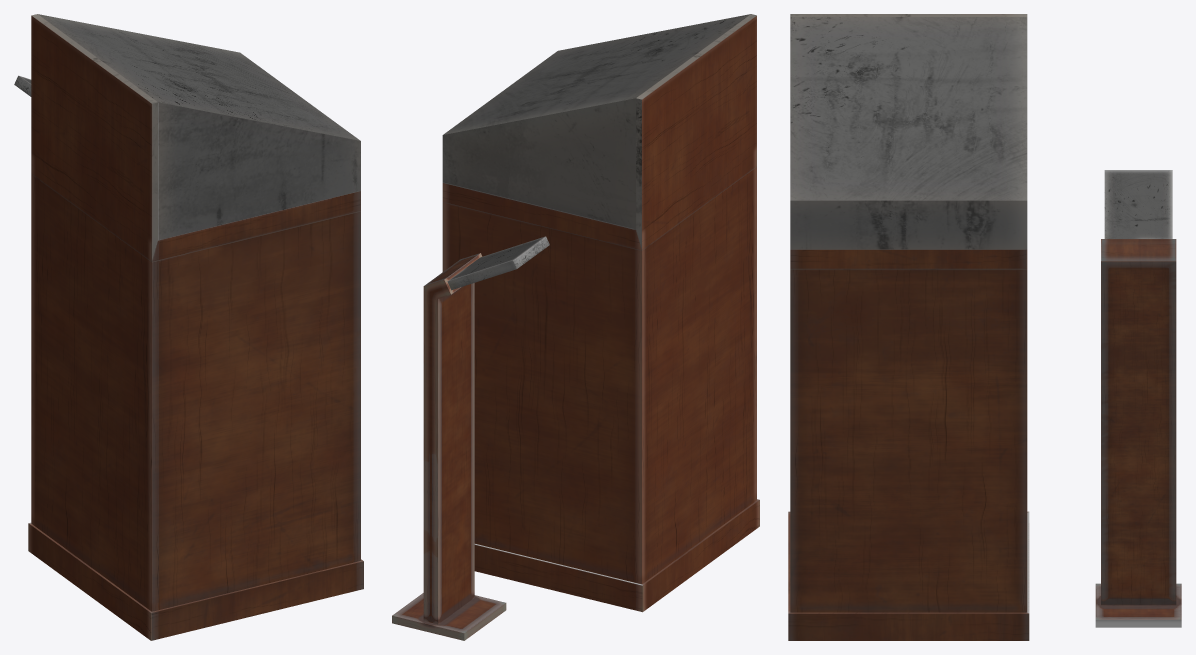
Rendered from Display Vertical.fbx.
3 renders of one model, left to right at view 1: azimuth 30°, elevation 25°; view 2: azimuth 150°, elevation 25°; view 3: azimuth 270°, elevation 25°, orthographic. The views are drawn at different scales.
Parts seen in each view (by area): view 1: display kotak; view 2: display kotak, display tesc; view 3: display kotak, display tesc.
Boxes of the visible parts, x1=… form: display kotak: x1=28, y1=14, x2=363, y2=640; display kotak: x1=442, y1=14, x2=759, y2=612; display tesc: x1=392, y1=236, x2=549, y2=640; display kotak: x1=788, y1=14, x2=1029, y2=640; display tesc: x1=1095, y1=170, x2=1181, y2=627.
Bounding box in the file's own units: 55.96 × 91.31 × 135.
2 materials, 2 textured.
